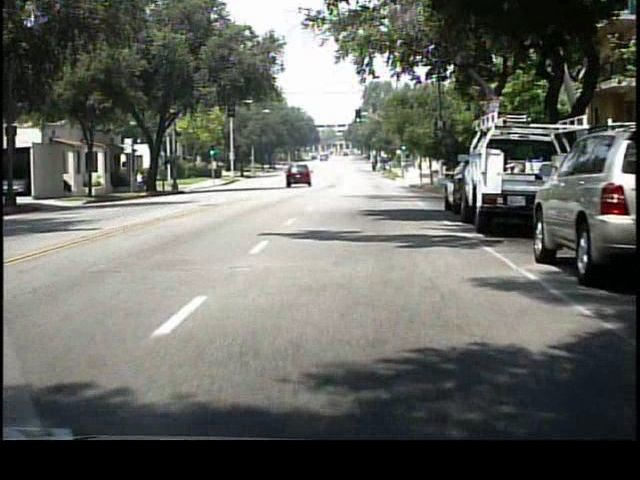person: (138, 168, 147, 193)
